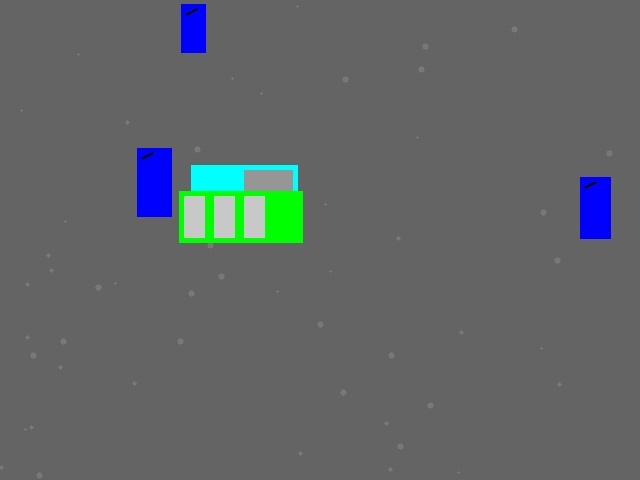bus: (179, 191, 302, 242)
motorcycle: (137, 148, 171, 216), (580, 177, 610, 238), (181, 4, 205, 52)
truck: (191, 165, 297, 212)
